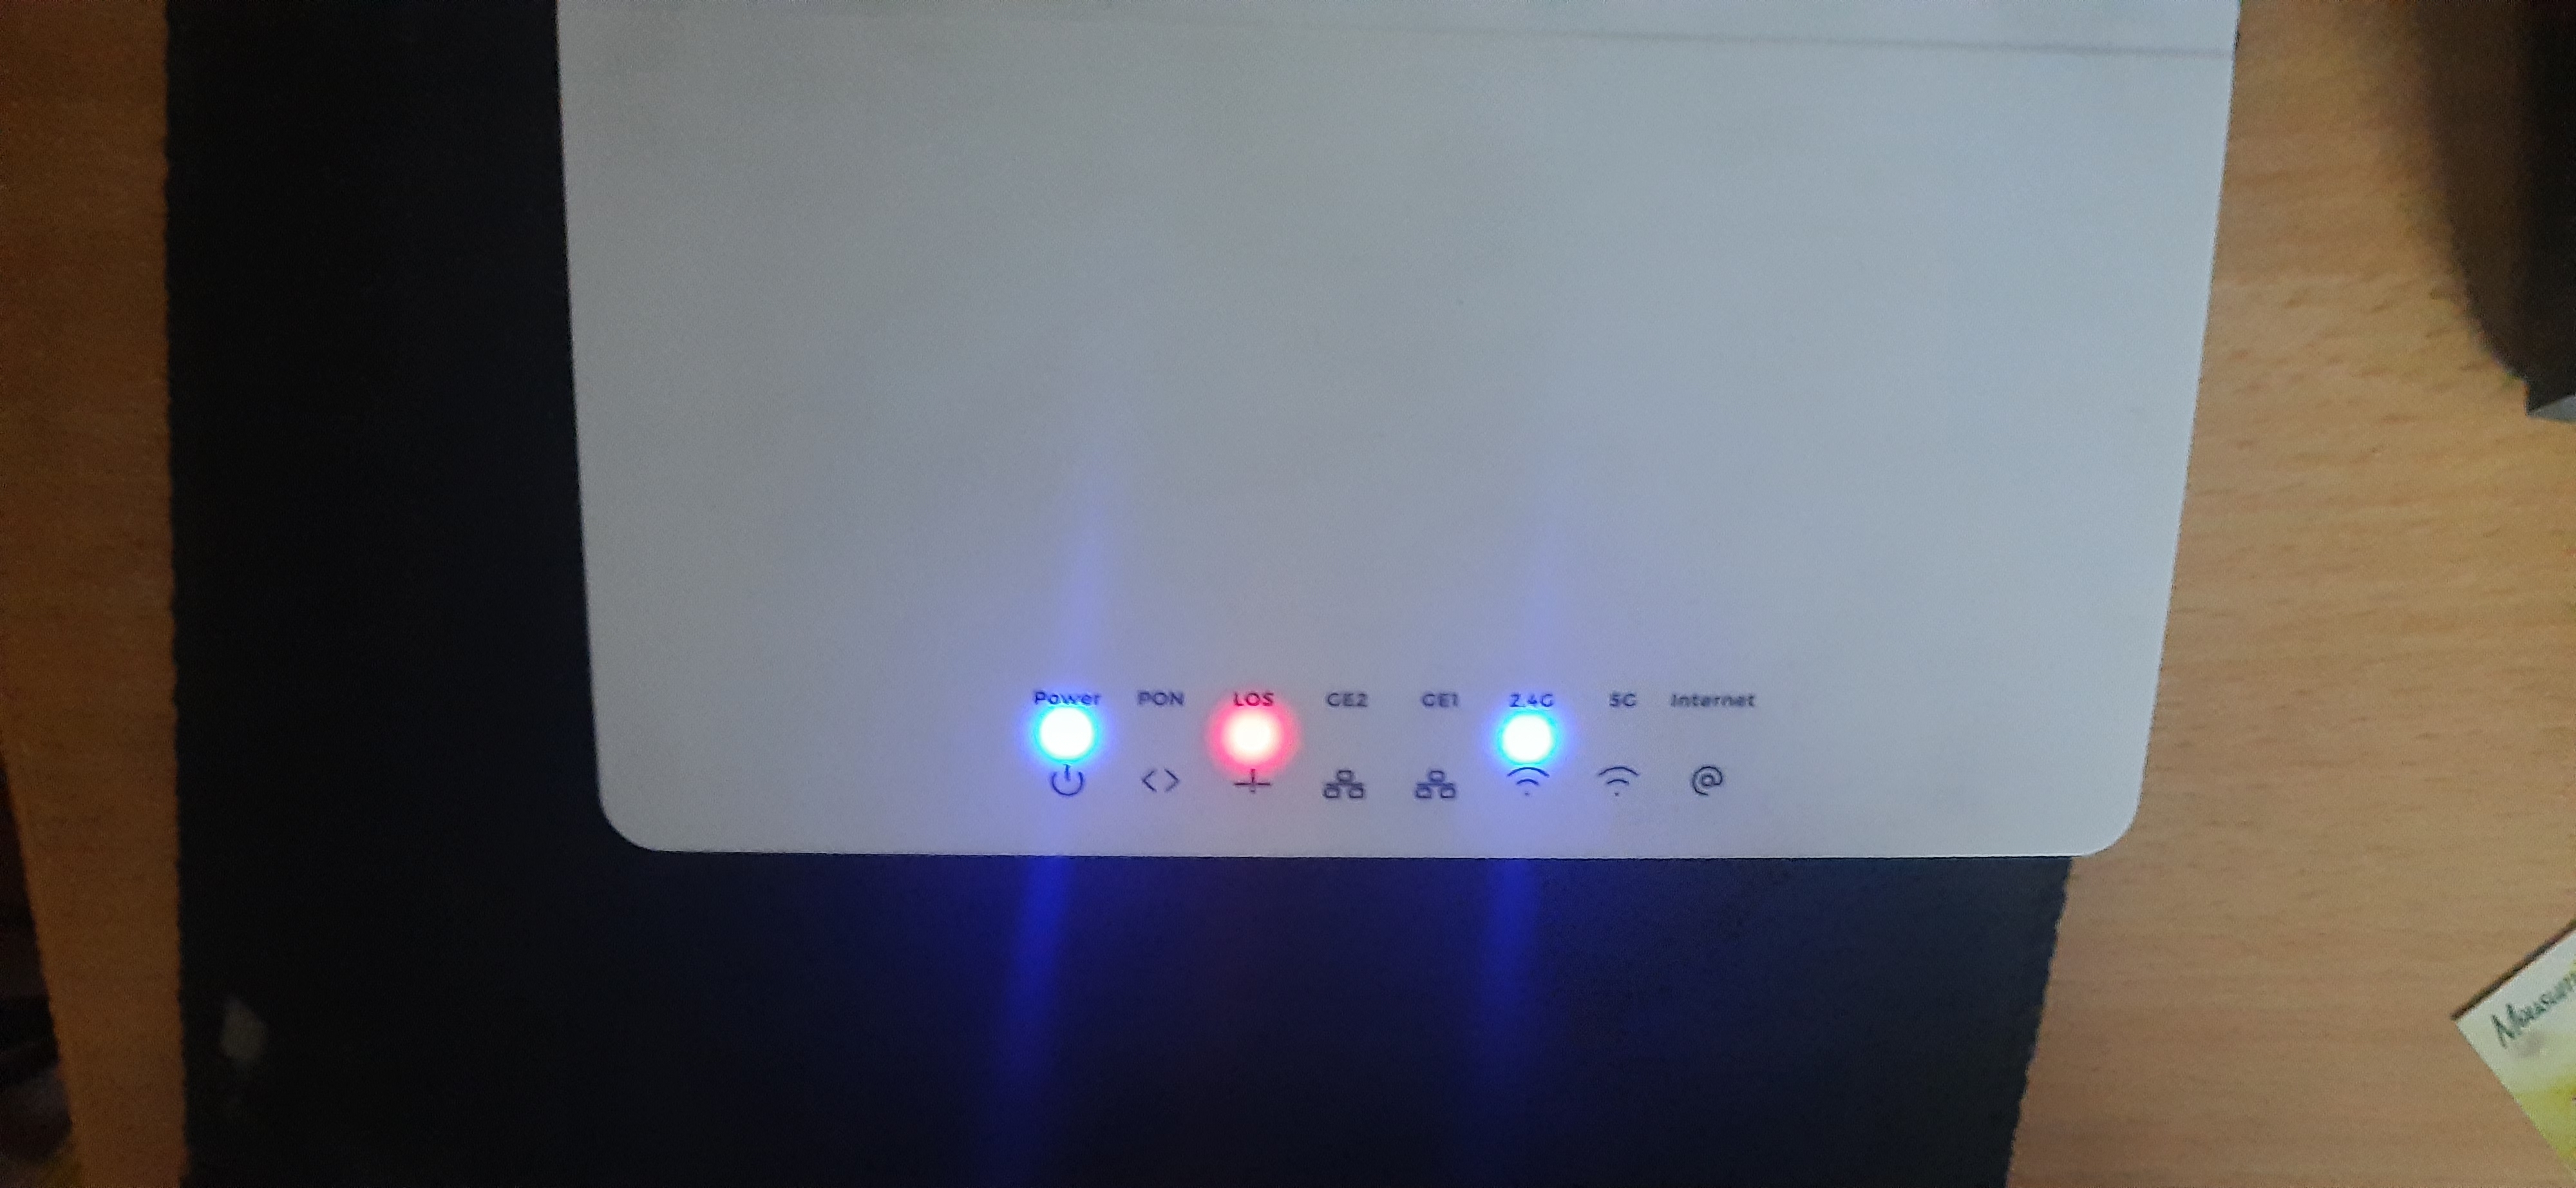LOSConnectionIssue: (1186, 649, 1309, 838)
